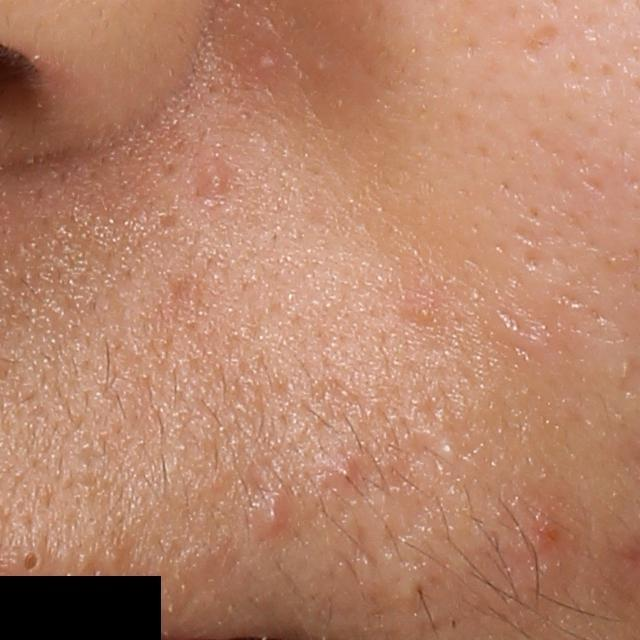atrophic_scar: (520, 20, 562, 65)
comedo: (13, 543, 47, 576), (417, 305, 433, 323)
papule: (247, 486, 293, 535), (323, 451, 366, 491), (529, 515, 567, 555), (255, 49, 279, 72)
